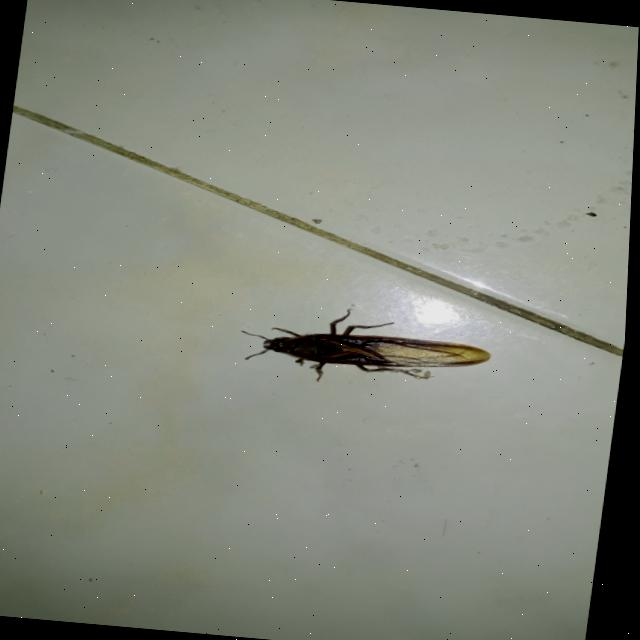Alive-Female-Alate: (238, 299, 499, 397)
